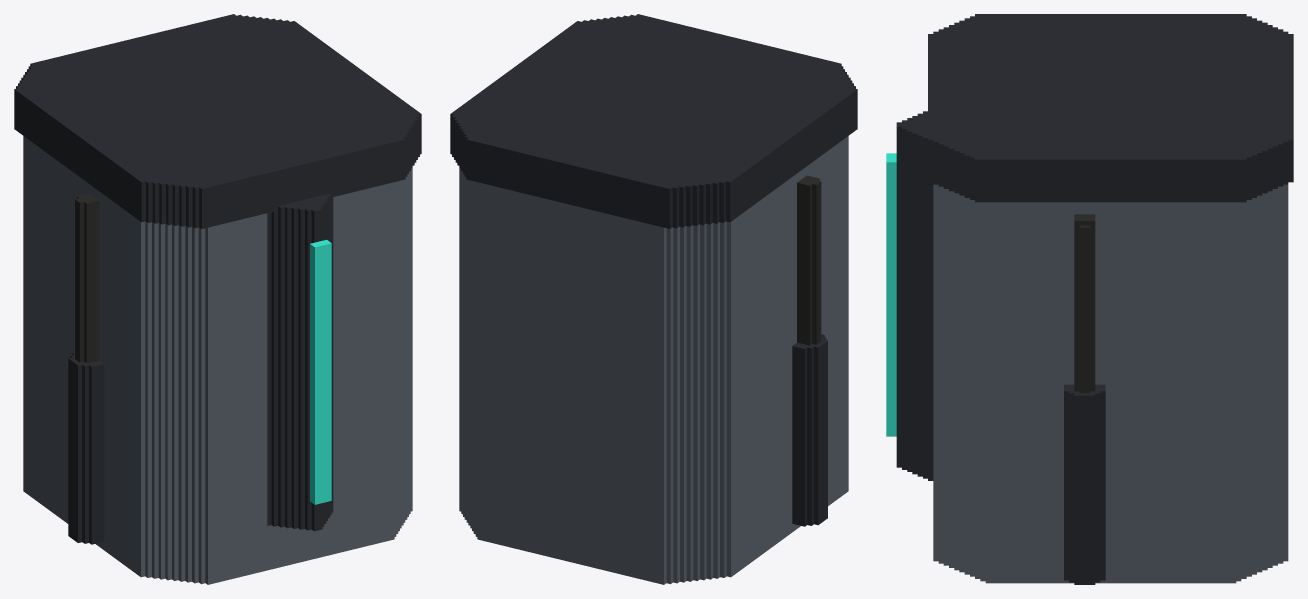
The model's file is legguard_power_worn_thigh.glb.
3 views of the same model, side by side, from view 1: azimuth 30°, elevation 25°; view 2: azimuth 150°, elevation 25°; view 3: azimuth 270°, elevation 25° (orthographic). The views are drawn at different scales.
Visible parts, largest first — view 1: legguard_power_worn_thigh:compound; view 2: legguard_power_worn_thigh:compound; view 3: legguard_power_worn_thigh:compound.
Boxes of the visible parts, bbox=[...] form: legguard_power_worn_thigh:compound: bbox=[14, 14, 421, 584]; legguard_power_worn_thigh:compound: bbox=[450, 14, 857, 584]; legguard_power_worn_thigh:compound: bbox=[886, 14, 1293, 584].
Bounding box in the file's own units: 0.296 × 0.36 × 0.312.
